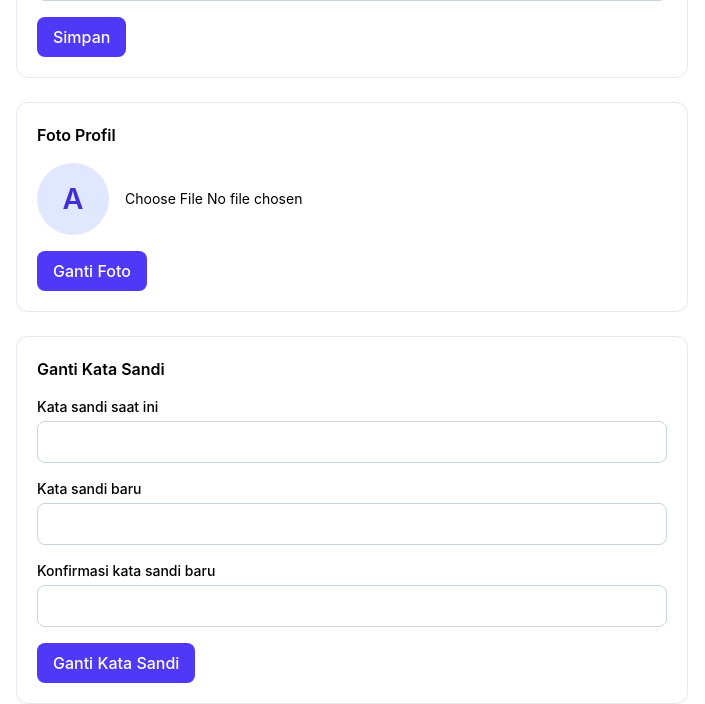
it: kata sandi › mengganti kata sandi lalu mengosongkan isian
This screenshot has width=705, height=704.
(page scrolled)
Type "lama" into the password field labelled "Kata sandi saat ini" at (352, 442), box [37, 421, 667, 463]
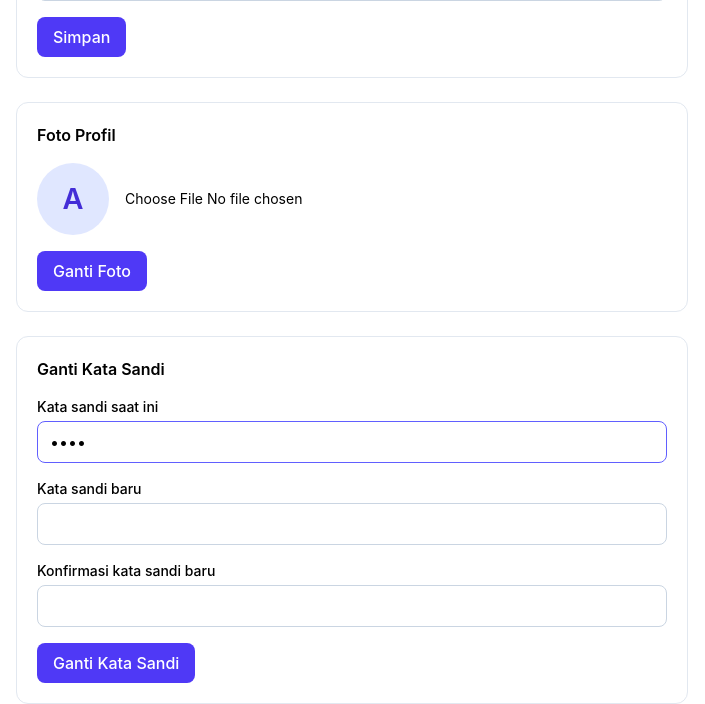
Type "baru" into the password field labelled "Kata sandi baru" at (352, 524), box [37, 503, 667, 545]
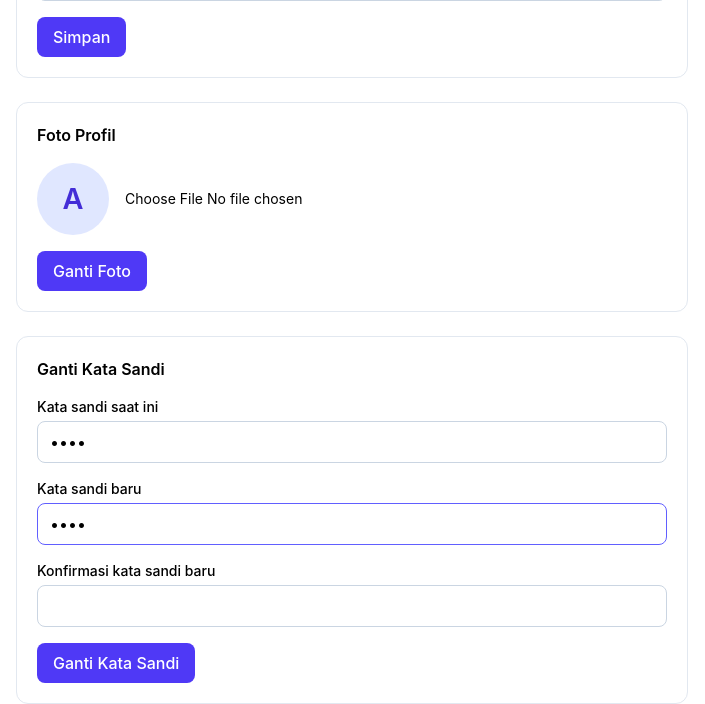
Type "baru" into the password field labelled "Konfirmasi kata sandi baru" at (352, 606), box [37, 585, 667, 627]
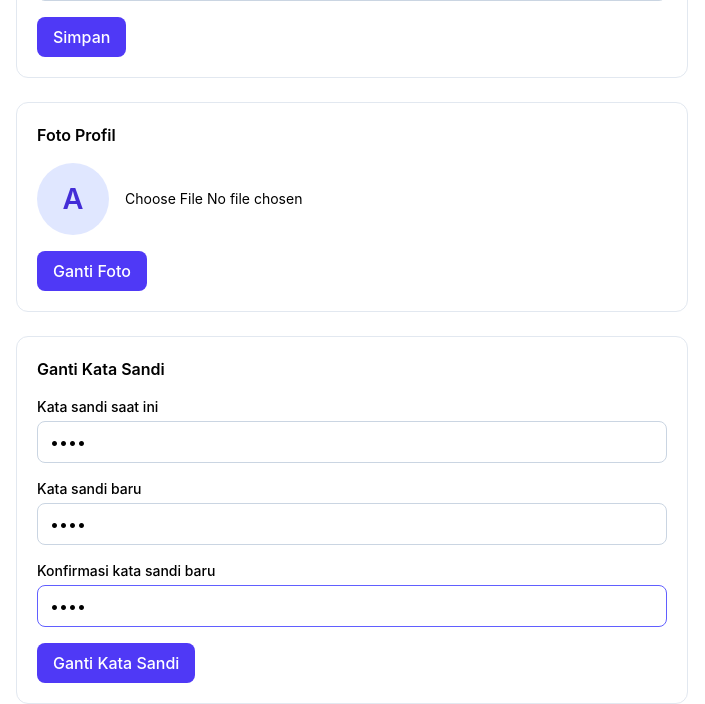
Click the button "Ganti Kata Sandi" at (116, 663), box [37, 643, 195, 683]
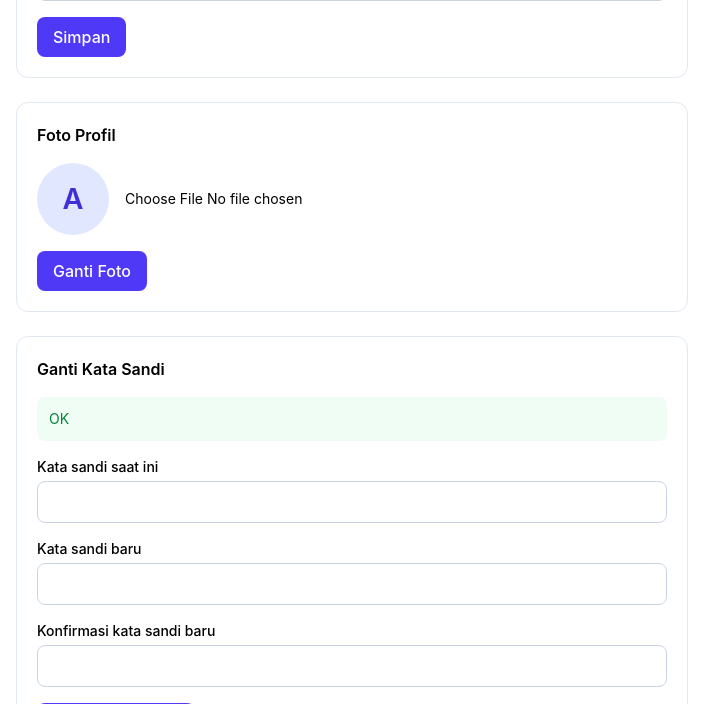
expect the text "OK" is shown: met, box [49, 410, 69, 427]
expect the password field labelled "Kata sandi saat ini" is empty: met, box [37, 481, 667, 523]
expect the password field labelled "Kata sandi baru" is empty: met, box [37, 563, 667, 605]
